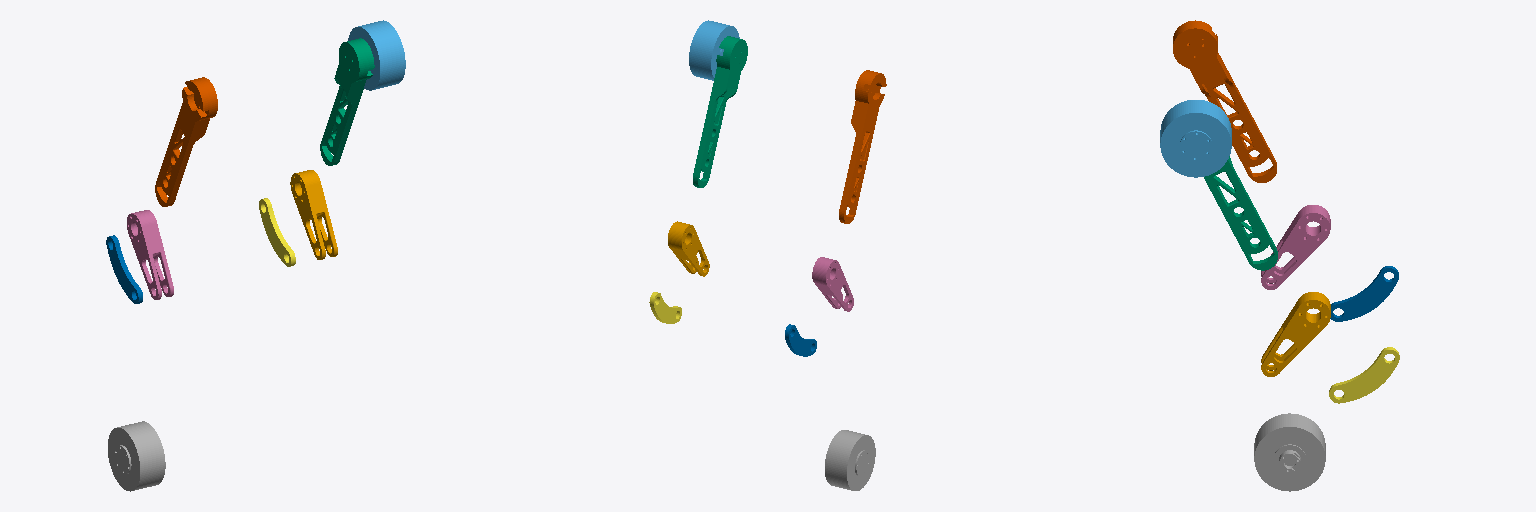
URDF robot description (robot):
<?xml version='1.0' encoding='utf-8'?>
<robot name="robot">
    <mujoco>
        <compiler fusestatic="false" discardvisual="false" coordinate="local"/>
    </mujoco>
    <link name="link1_left">
        <inertial>
            <origin xyz="-0.018166978005611494 0.009921954681198938 -0.007149621055701481" rpy="2.0293072715139053e-17 0.0 0.0" />
            <mass value="0.04" />
            <inertia ixx="7.4440028073e-06" iyy="2.5142099059e-05" izz="2.0747352118e-05" ixy="-7.2674728667e-08" iyz="-3.4979254874e-08" ixz="-6.1562281647e-06" />
        </inertial>
        <visual name="link1_left_visual">
            <origin xyz="-0.03799665238660035 0.016816099706863312 -0.019742583505363936" rpy="-1.3010609451868982 -0.004304181638839388 -1.5681871598450279" />
            <geometry>
                <mesh filename="meshes/link1_left.stl" scale="0.001 0.001 0.001" />
            </geometry>
        </visual>
        <collision name="link1_left_collision">
            <origin xyz="-0.03799665238660035 0.016816099706863312 -0.019742583505363936" rpy="-1.3010609451868982 -0.004304181638839388 -1.5681871598450279" />
            <geometry>
                <mesh filename="meshes/link1_left.stl" scale="0.001 0.001 0.001" />
            </geometry>
        </collision>
    </link>
    <link name="wheel_left">
        <inertial>
            <origin xyz="-3.5842304993884965e-05 -0.015710212283790864 6.155662402040462e-05" rpy="2.0293072715139053e-17 0.0 0.0" />
            <mass value="0.50" />
            <inertia ixx="1.8797326173e-04" iyy="2.7854652190e-04" izz="1.8797419246e-04" ixy="1.7498522962e-07" iyz="-3.1759880335e-07" ixz="-1.0851304811e-09" />
        </inertial>
        <visual name="wheel_left_visual">
            <origin xyz="-8.3490717625061e-05 -0.03199959955642795 0.0001377320956118222" rpy="-0.005646058401270238 -0.7038819930408806 0.001044882631630851" />
            <geometry>
                <mesh filename="meshes/wheel_left.stl" scale="0.001 0.001 0.001" />
            </geometry>
        </visual>
        <collision name="wheel_left_collision">
            <origin xyz="-8.3490717625061e-05 -0.03199959955642795 0.0001377320956118222" rpy="-0.005646058401270238 -0.7038819930408806 0.001044882631630851" />
            <geometry>
                <mesh filename="meshes/wheel_left.stl" scale="0.001 0.001 0.001" />
            </geometry>
        </collision>
    </link>
    <link name="link2_left">
        <inertial>
            <origin xyz="0.04156411800840451 -0.007919803008513426 -0.03523436842240086" rpy="2.0293072715139053e-17 0.0 0.0" />
            <mass value="0.08" />
            <inertia ixx="9.6715113812e-05" iyy="2.2191936723e-04" izz="1.2986640450e-04" ixy="8.5096853988e-06" iyz="-7.2667159258e-06" ixz="1.0078187861e-04" />
        </inertial>
        <visual name="link2_left_visual">
            <origin xyz="0.022013728614496388 0.0019769643873805264 -0.01870151620916417" rpy="-2.274686183703241 -0.004304181638839166 -1.5681871598450277" />
            <geometry>
                <mesh filename="meshes/link2_left.stl" scale="0.001 0.001 0.001" />
            </geometry>
        </visual>
        <collision name="link2_left_collision">
            <origin xyz="0.022013728614496388 0.0019769643873805264 -0.01870151620916417" rpy="-2.274686183703241 -0.004304181638839166 -1.5681871598450277" />
            <geometry>
                <mesh filename="meshes/link2_left.stl" scale="0.001 0.001 0.001" />
            </geometry>
        </collision>
    </link>
    <link name="link3_left">
        <inertial>
            <origin xyz="-0.028929831568332693 0.002856949438744447 -0.015707674968183517" rpy="2.0293072715139053e-17 0.0 0.0" />
            <mass value="0.01" />
            <inertia ixx="2.0683500049e-06" iyy="5.2081360291e-06" izz="3.1999954882e-06" ixy="-1.7036483869e-08" iyz="-1.4005050836e-08" ixz="-2.0547184377e-06" />
        </inertial>
        <visual name="link3_left_visual">
            <origin xyz="-0.025868010232697847 0.005847703903597115 -0.01972056132874364" rpy="2.2218156118697014 -0.00430418163883961 -1.5681871598450277" />
            <geometry>
                <mesh filename="meshes/link3_left.stl" scale="0.001 0.001 0.001" />
            </geometry>
        </visual>
        <collision name="link3_left_collision">
            <origin xyz="-0.025868010232697847 0.005847703903597115 -0.01972056132874364" rpy="2.2218156118697014 -0.00430418163883961 -1.5681871598450277" />
            <geometry>
                <mesh filename="meshes/link3_left.stl" scale="0.001 0.001 0.001" />
            </geometry>
        </collision>
    </link>
    <link name="link3_right">
        <inertial>
            <origin xyz="-0.028914178443092808 0.003142983198542506 0.01568184630847984" rpy="2.0293072715139053e-17 0.0 0.0" />
            <mass value="0.01" />
            <inertia ixx="2.0683500049e-06" iyy="5.2081360291e-06" izz="3.1999954882e-06" ixy="1.7036483869e-08" iyz="-1.4005050836e-08" ixz="2.0547184377e-06" />
        </inertial>
        <visual name="link3_right_visual">
            <origin xyz="-0.02583670226853351 0.006152152732781158 0.019668907658946147" rpy="-2.221815611869705 -0.004304181638839166 -1.5734054937447661" />
            <geometry>
                <mesh filename="meshes/link3_right.stl" scale="0.001 0.001 0.001" />
            </geometry>
        </visual>
        <collision name="link3_right_collision">
            <origin xyz="-0.02583670226853351 0.006152152732781158 0.019668907658946147" rpy="-2.221815611869705 -0.004304181638839166 -1.5734054937447661" />
            <geometry>
                <mesh filename="meshes/link3_right.stl" scale="0.001 0.001 0.001" />
            </geometry>
        </collision>
    </link>
    <link name="link2_right">
        <inertial>
            <origin xyz="0.04156411800840451 0.007919803008513426 -0.03523436842240086" rpy="2.0293072715139053e-17 0.0 0.0" />
            <mass value="0.08" />
            <inertia ixx="9.6715113812e-05" iyy="2.2191936723e-04" izz="1.2986640450e-04" ixy="-8.5096853988e-06" iyz="7.2667159258e-06" ixz="1.0078187861e-04" />
        </inertial>
        <visual name="link2_right_visual">
            <origin xyz="0.022024157654718515 -0.0020229835789991489 -0.018684300835689172" rpy="-0.8669064698865504 0.0043041816388385001 1.5734054937447655" />
            <geometry>
                <mesh filename="meshes/link2_right.stl" scale="0.001 0.001 0.001" />
            </geometry>
        </visual>
        <collision name="link2_right_collision">
            <origin xyz="0.022024157654718515 -0.0020229835789991489 -0.018684300835689172" rpy="-0.8669064698865504 0.0043041816388385001 1.5734054937447655" />
            <geometry>
                <mesh filename="meshes/link2_right.stl" scale="0.001 0.001 0.001" />
            </geometry>
        </collision>
    </link>
    <link name="link1_right">
        <inertial>
            <origin xyz="-0.018114786914125727 -0.010077793976110775 -0.007063534024669487" rpy="2.0293072715139053e-17 0.0 0.0" />
            <mass value="0.04" />
            <inertia ixx="7.4440028212e-06" iyy="2.5142099031e-05" izz="2.0747352133e-05" ixy="-7.2677387689e-08" iyz="-3.4980940982e-08" ixz="-6.1562281488e-06" />
        </inertial>
        <visual name="link1_right_visual">
            <origin xyz="-0.0379079333463781 -0.017183468259516187 -0.01959623813188882" rpy="-1.840531708402895 0.00430418163883961 1.573405493744765" />
            <geometry>
                <mesh filename="meshes/link1_right.stl" scale="0.001 0.001 0.001" />
            </geometry>
        </visual>
        <collision name="link1_right_collision">
            <origin xyz="-0.0379079333463781 -0.017183468259516187 -0.01959623813188882" rpy="-1.840531708402895 0.00430418163883961 1.573405493744765" />
            <geometry>
                <mesh filename="meshes/link1_right.stl" scale="0.001 0.001 0.001" />
            </geometry>
        </collision>
    </link>
    <link name="wheel_right">
        <inertial>
            <origin xyz="4.482355501615132e-05 0.015710191616803027 -6.0650294060256014e-05" rpy="2.0293072715139053e-17 0.0 0.0" />
            <mass value="0.50" />
            <inertia ixx="1.8797362261e-04" iyy="2.7854605683e-04" izz="1.8797429666e-04" ixy="2.8195219634e-07" iyz="-3.0678296348e-07" ixz="-5.5169133440e-10" />
        </inertial>
        <visual name="wheel_right_visual">
            <origin xyz="8.34967118459673e-05 0.031999598400864734 -0.00013773337880224724" rpy="0.004910832616104921 -0.5023207052999299 3.136619098362705" />
            <geometry>
                <mesh filename="meshes/wheel_right.stl" scale="0.001 0.001 0.001" />
            </geometry>
        </visual>
        <collision name="wheel_right_collision">
            <origin xyz="8.34967118459673e-05 0.031999598400864734 -0.00013773337880224724" rpy="0.004910832616104921 -0.5023207052999299 3.136619098362705" />
            <geometry>
                <mesh filename="meshes/wheel_right.stl" scale="0.001 0.001 0.001" />
            </geometry>
        </collision>
    </link>
    <link name="base_link">
        <inertial>
            <origin xyz="-0.0005926311409948765 0.004346570833989687 0.005442047538105136" rpy="1.5707963267948966 0.0 0.0" />
            <mass value="0.94" />
            <inertia ixx="1.8172826705e-03" iyy="2.8551766520e-03" izz="3.7139004379e-03" ixy="-3.0434151667e-06" iyz="6.0323715329e-05" ixz="4.5944441791e-06" />
        </inertial>
        <visual name="base_link_visual">
            <origin xyz="0.0 0.0 0.0" rpy="1.5707963267948966 0.0 0.0" />
            <geometry>
                <mesh filename="meshes/base_link.stl" scale="0.001 0.001 0.001" />
            </geometry>
        </visual>
        <collision name="base_link_collision">
            <origin xyz="0.0 0.0 0.0" rpy="1.5707963267948966 0.0 0.0" />
            <geometry>
                <mesh filename="meshes/base_link.stl" scale="0.001 0.001 0.001" />
            </geometry>
        </collision>
    </link>
    <joint name="base_link_旋转-1" type="revolute">
        <origin xyz="-0.09400000200669573 0.011523592215170648 0.005415741165141359" rpy="0.004283460434355124 0.00794719707671776 -1.5734055519724581" />
        <parent link="base_link" />
        <child link="link1_right" />
        <axis xyz="0.002609 -0.9999869999999998 0.004304000000000125" />
        <limit lower="-0.110000" upper="1.658063" effort="1000000" velocity="1000000" />
    </joint>
    <joint name="base_link_旋转-2" type="revolute">
        <origin xyz="0.09399999931776205 0.011523583896583905 0.005415744754583152" rpy="0.004283460434354236 0.007947197076717538 -1.5734055519724581" />
        <parent link="base_link" />
        <child link="link1_left" />
        <axis xyz="0.002609 -0.9999869999999998 0.004304000000000125" />
        <limit lower="-0.110000" upper="1.658063" effort="1000000" velocity="1000000" />
    </joint>
    <joint name="base_link_旋转-3" type="continuous">
        <origin xyz="-0.09399999505395025 0.05594521558289801 0.04326729650344552" rpy="-3.1373091931554526 0.007947197076717316 -1.573405551972459" />
        <parent link="base_link" />
        <child link="link3_right" />
        <axis xyz="0.002609 0.9999869999999998 -0.004304000000000139" />
    </joint>
    <joint name="base_link_旋转-4" type="continuous">
        <origin xyz="0.09399999629672562 0.05594521729039382 0.04326730012952533" rpy="0.004283460434348907 0.00794719707671776 -1.5734055519724581" />
        <parent link="base_link" />
        <child link="link3_left" />
        <axis xyz="0.002609 -0.9999869999999998 0.004303999999999985" />
    </joint>
    <joint name="link1_right_旋转-5" type="continuous">
        <origin xyz="-0.06746535000000002 -0.015289760000000001 -0.026379890000000027" rpy="0 0 0" />
        <parent link="link1_right" />
        <child link="link2_right" />
        <axis xyz="-0.002609 0.999987 -0.004304" />
    </joint>
    <joint name="link1_left_旋转-6" type="continuous">
        <origin xyz="-0.06754364000000002 0.01470986 -0.026509020000000022" rpy="2.0293072715139053e-17 0.0 0.0" />
        <parent link="link1_left" />
        <child link="link2_left" />
        <axis xyz="-0.002609 0.999987 -0.004304" />
    </joint>
    <joint name="link2_right_旋转-12" type="continuous">
        <origin xyz="0.075598929999999995 -7.8990000000001004e-05 -0.064179469999999988" rpy="-3.1415926535897931 -0 0" />
        <parent link="link2_right" />
        <child link="wheel_right" />
        <axis xyz="-0.0026089999999999447 -0.999987 0.004304" />
    </joint>
    <joint name="link2_left_旋转-13" type="continuous">
        <origin xyz="0.07559894 -7.899999999999352e-05 -0.06417947" rpy="-3.1415926535897927 0.0 0.0" />
        <parent link="link2_left" />
        <child link="wheel_left" />
        <axis xyz="-0.0026090000000001112 -0.999987 0.004304" />
    </joint>
</robot>

--- Facts derived from the render (not from the file) ---
3 views of the same robot in one strip: view 1: azimuth 30°, elevation 25°; view 2: azimuth 150°, elevation 25°; view 3: azimuth 270°, elevation 25° (orthographic).
Robot: robot — 9 links, 8 joints (2 revolute, 6 continuous); root link base_link; default pose: all joints at 0.
Links seen in each view (by area): view 1: link2_right, link2_left, wheel_right, link1_left, link1_right, wheel_left, link3_left, link3_right; view 2: link2_right, link2_left, wheel_right, wheel_left, link1_left, link1_right, link3_right, link3_left; view 3: link2_right, wheel_left, wheel_right, link2_left, link1_left, link1_right, link3_left, link3_right.
Link boxes in pixels (x1=…): link2_right: x1=155, y1=77, x2=217, y2=206; link2_left: x1=320, y1=38, x2=374, y2=165; wheel_right: x1=108, y1=421, x2=165, y2=491; link1_left: x1=290, y1=170, x2=337, y2=259; link1_right: x1=127, y1=210, x2=173, y2=299; wheel_left: x1=348, y1=20, x2=405, y2=90; link3_left: x1=259, y1=198, x2=295, y2=266; link3_right: x1=106, y1=235, x2=142, y2=303; link2_right: x1=839, y1=70, x2=886, y2=223; link2_left: x1=693, y1=36, x2=747, y2=187; wheel_right: x1=825, y1=430, x2=875, y2=490; wheel_left: x1=689, y1=20, x2=739, y2=80; link1_left: x1=668, y1=221, x2=709, y2=276; link1_right: x1=812, y1=257, x2=853, y2=311; link3_right: x1=785, y1=324, x2=816, y2=356; link3_left: x1=649, y1=292, x2=681, y2=323; link2_right: x1=1173, y1=20, x2=1276, y2=182; wheel_left: x1=1160, y1=100, x2=1231, y2=177; wheel_right: x1=1254, y1=413, x2=1325, y2=491; link2_left: x1=1204, y1=156, x2=1277, y2=270; link1_left: x1=1261, y1=292, x2=1330, y2=376; link1_right: x1=1261, y1=205, x2=1330, y2=289; link3_left: x1=1329, y1=347, x2=1399, y2=403; link3_right: x1=1330, y1=266, x2=1398, y2=321.
Size in the robot's own frame: 0.287 by 0.2414 by 0.5382 metres.
8 mesh visuals loaded from 9 distinct referenced files (8 binary STL); not drawn: 1 (reference not matched to a file when rendering).
